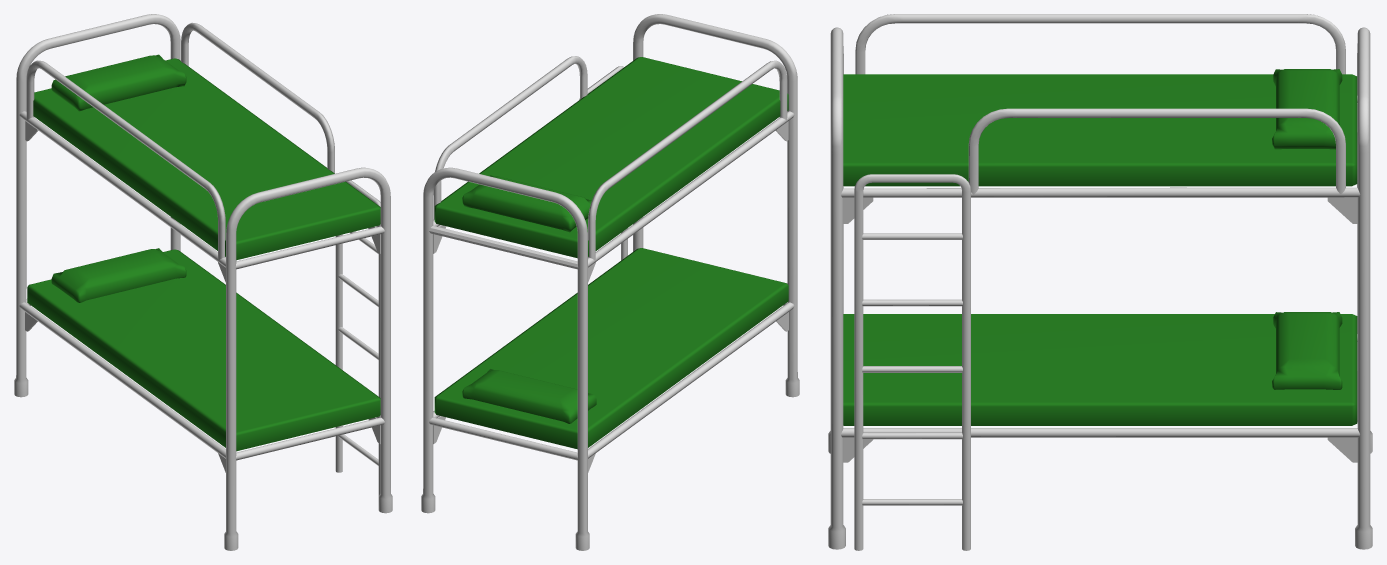
Rendered from DoubleBed.FBX.
3 views of the same model, side by side, from view 1: azimuth 30°, elevation 25°; view 2: azimuth 150°, elevation 25°; view 3: azimuth 270°, elevation 25° (orthographic). The views are drawn at different scales.
Visible parts, largest first — view 1: Box009, Bed, Box010, Box011, Box012; view 2: Box009, Box010, Bed, Box011, Box012; view 3: Box009, Box010, Bed, Box011, Box012.
Part boxes in pixels (left/top/right/bottom): Box009: left=27, top=249, right=380, bottom=451; Bed: left=14, top=14, right=392, bottom=550; Box010: left=33, top=58, right=380, bottom=260; Box011: left=51, top=248, right=186, bottom=302; Box012: left=51, top=54, right=186, bottom=111; Box009: left=434, top=248, right=788, bottom=449; Box010: left=434, top=57, right=788, bottom=258; Bed: left=421, top=14, right=799, bottom=550; Box011: left=462, top=369, right=596, bottom=423; Box012: left=462, top=175, right=591, bottom=232; Box009: left=843, top=314, right=1357, bottom=425; Box010: left=843, top=74, right=1357, bottom=186; Bed: left=828, top=14, right=1372, bottom=550; Box011: left=1272, top=312, right=1342, bottom=389; Box012: left=1272, top=69, right=1342, bottom=149.
Bounding box in the file's own units: 29.16 × 57.53 × 64.93.
